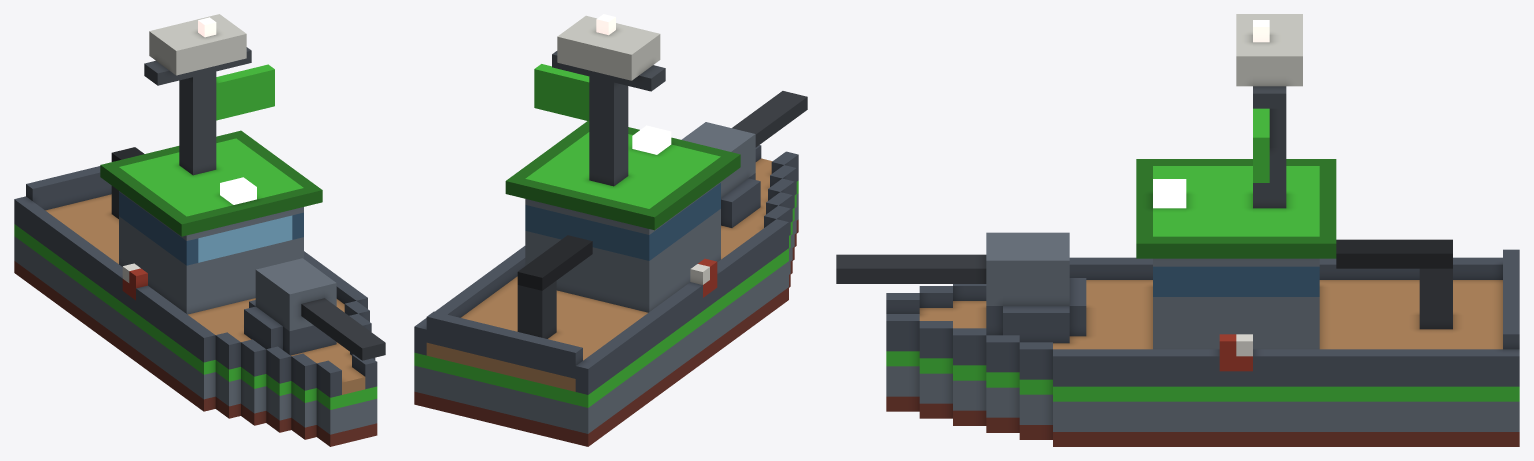
The model's file is cm_gunboat_3.glb.
The picture shows the model from 3 angles, left to right: view 1: azimuth 30°, elevation 25°; view 2: azimuth 150°, elevation 25°; view 3: azimuth 270°, elevation 25°; orthographic projection. The views are drawn at different scales.
Parts seen in each view (by area): view 1: cm_gunboat_3_body; view 2: cm_gunboat_3_body; view 3: cm_gunboat_3_body.
Part boxes in pixels (left/top/right/bottom): cm_gunboat_3_body: left=14, top=14, right=385, bottom=446; cm_gunboat_3_body: left=414, top=14, right=807, bottom=446; cm_gunboat_3_body: left=836, top=14, right=1519, bottom=446.
Bounding box in the file's own units: 0.875 × 1.56 × 2.56.
1 material, 1 textured.
